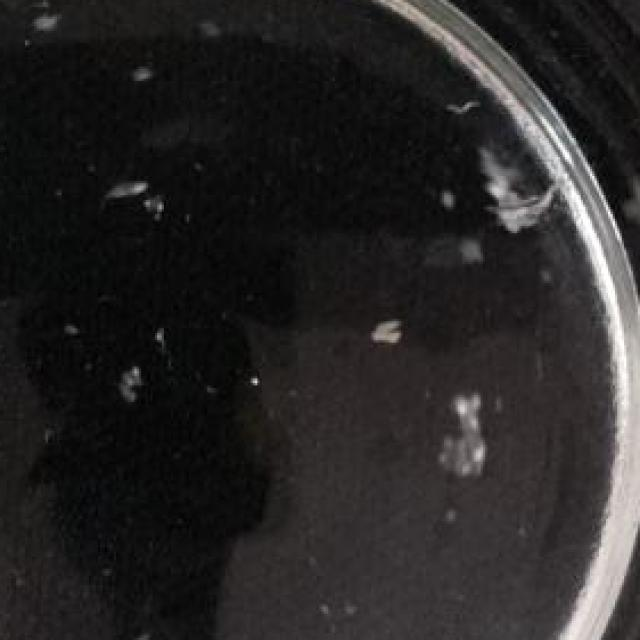Microplastic: (474, 155, 565, 259), (442, 383, 510, 488), (105, 357, 155, 426), (100, 162, 162, 216), (601, 166, 640, 248), (442, 74, 494, 133), (442, 238, 492, 281), (371, 309, 410, 364), (20, 0, 70, 40), (430, 174, 464, 221)
